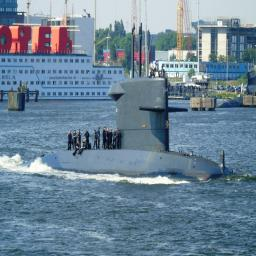submarine: (17, 23, 236, 183)
